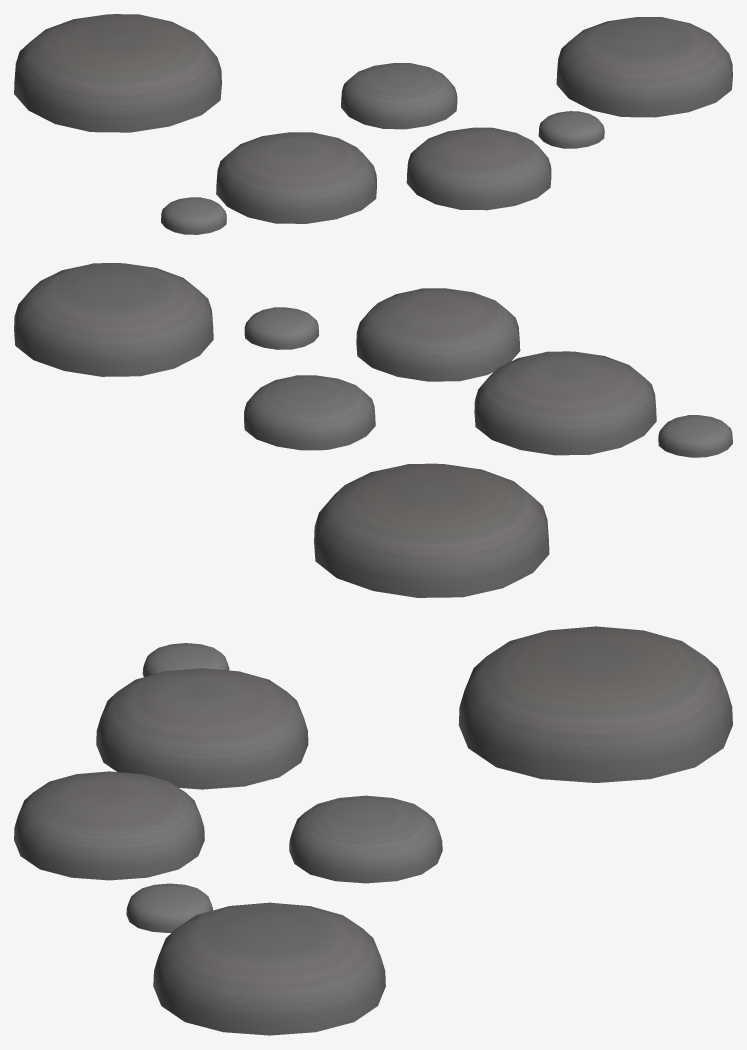
The model's file is Pebles_1_1.glb.
3 renders of one model, top to bottom at view 1: azimuth 30°, elevation 25°; view 2: azimuth 150°, elevation 25°; view 3: azimuth 270°, elevation 25°, orthographic. The views are drawn at different scales.
Visible parts, largest first — view 1: Pebles_1_1; view 2: Pebles_1_1; view 3: Pebles_1_1.
Part boxes in pixels (x1=…): Pebles_1_1: x1=14, y1=14, x2=732, y2=234; Pebles_1_1: x1=14, y1=263, x2=732, y2=597; Pebles_1_1: x1=14, y1=626, x2=732, y2=1035.
Size of the model in its own units: 1.86 by 0.1552 by 1.49.
Materials: 1 (1 with a texture image).
